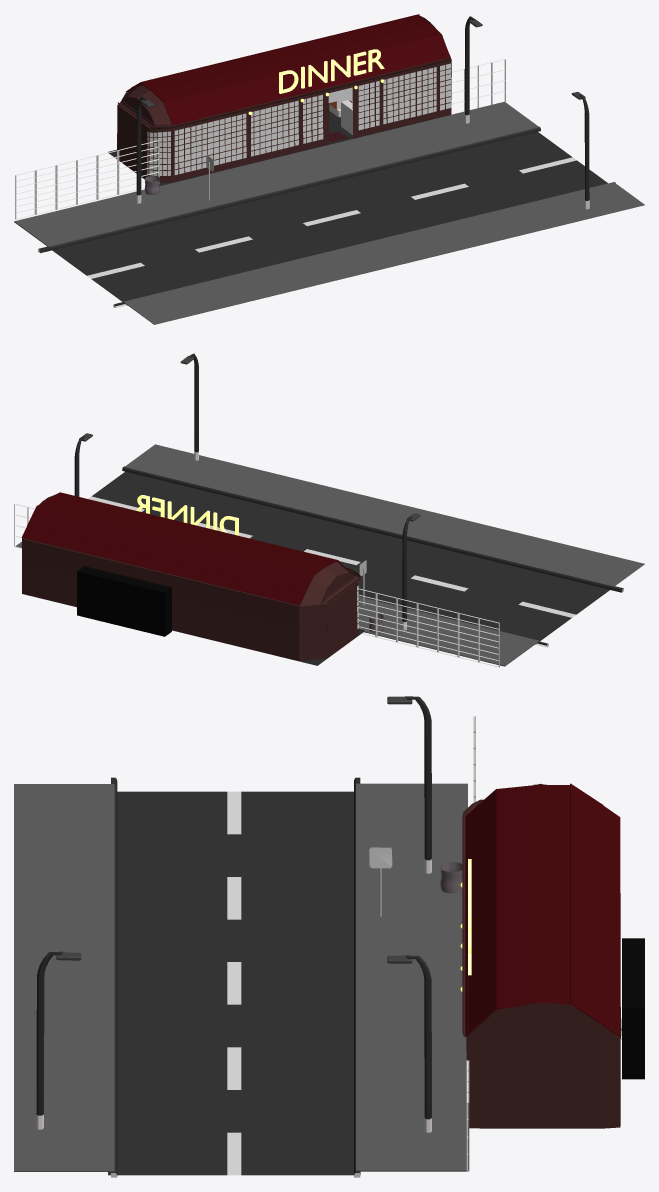
Rendered from uploads_files_3384812_diner.fbx.
3 views of the same model, one above another, from view 1: azimuth 30°, elevation 25°; view 2: azimuth 150°, elevation 25°; view 3: azimuth 270°, elevation 25° (orthographic). The views are drawn at different scales.
Parts seen in each view (by area): view 1: Plane.018, Plane.038, Plane.035, Plane.036, Plane.019, Plane.051, Plane.052, Plane.026, Plane.062, Text.002, Cylinder.052, Пол.001 (+5 smaller); view 2: Plane.018, Plane.038, Plane.036, Plane.069, Plane.035, Cube.015, Plane.070, Plane.052, Plane.051, Plane.026, Plane.046, Text.002 (+2 smaller); view 3: Plane.018, Plane.035, Plane.036, Plane.038, Plane.051, Plane.052, Plane.069, Plane.019, Plane.070, Cube.015, Plane.046, Cylinder.055 (+5 smaller).
Part boxes in pixels (left/top/right/bottom): Plane.018: left=52, top=132, right=607, bottom=305; Plane.038: left=117, top=15, right=451, bottom=182; Plane.035: left=14, top=101, right=539, bottom=247; Plane.036: left=123, top=182, right=644, bottom=324; Plane.019: left=163, top=34, right=450, bottom=125; Plane.051: left=152, top=24, right=441, bottom=102; Plane.052: left=141, top=15, right=430, bottom=91; Plane.026: left=15, top=140, right=159, bottom=219; Plane.062: left=38, top=127, right=540, bottom=253; Text.002: left=279, top=49, right=384, bottom=93; Cylinder.052: left=117, top=56, right=450, bottom=128; Пол.001: left=108, top=111, right=450, bottom=186; Plane.018: left=88, top=471, right=609, bottom=644; Plane.038: left=22, top=494, right=359, bottom=661; Plane.036: left=124, top=444, right=644, bottom=586; Plane.069: left=27, top=505, right=314, bottom=594; Plane.035: left=15, top=541, right=539, bottom=666; Cube.015: left=77, top=566, right=171, bottom=636; Plane.070: left=21, top=526, right=304, bottom=605; Plane.052: left=38, top=498, right=326, bottom=574; Plane.051: left=49, top=492, right=337, bottom=566; Plane.026: left=358, top=588, right=499, bottom=667; Plane.046: left=122, top=466, right=623, bottom=592; Text.002: left=136, top=495, right=238, bottom=535; Plane.018: left=108, top=791, right=360, bottom=1175; Plane.035: left=356, top=783, right=467, bottom=1171; Plane.036: left=14, top=784, right=114, bottom=1171; Plane.038: left=466, top=784, right=620, bottom=1128; Plane.051: left=496, top=785, right=533, bottom=1009; Plane.052: left=533, top=784, right=570, bottom=1004; Plane.069: left=570, top=783, right=603, bottom=1025; Plane.019: left=465, top=789, right=496, bottom=1035; Plane.070: left=602, top=805, right=620, bottom=1037; Cube.015: left=622, top=938, right=644, bottom=1079; Plane.046: left=111, top=777, right=117, bottom=1177; Cylinder.055: left=36, top=951, right=63, bottom=1129.
Bounding box in the file's own units: 1024 × 225 × 691.
